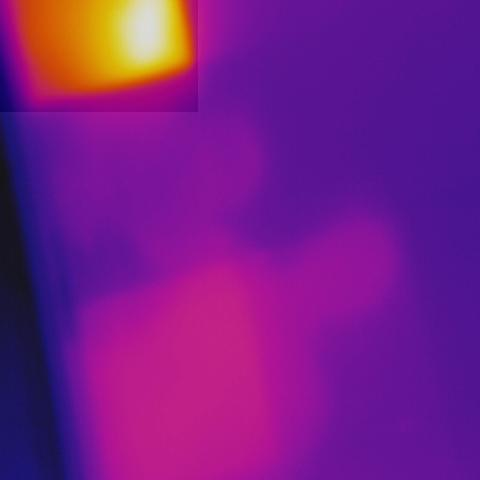fault: (0, 0, 198, 112)
